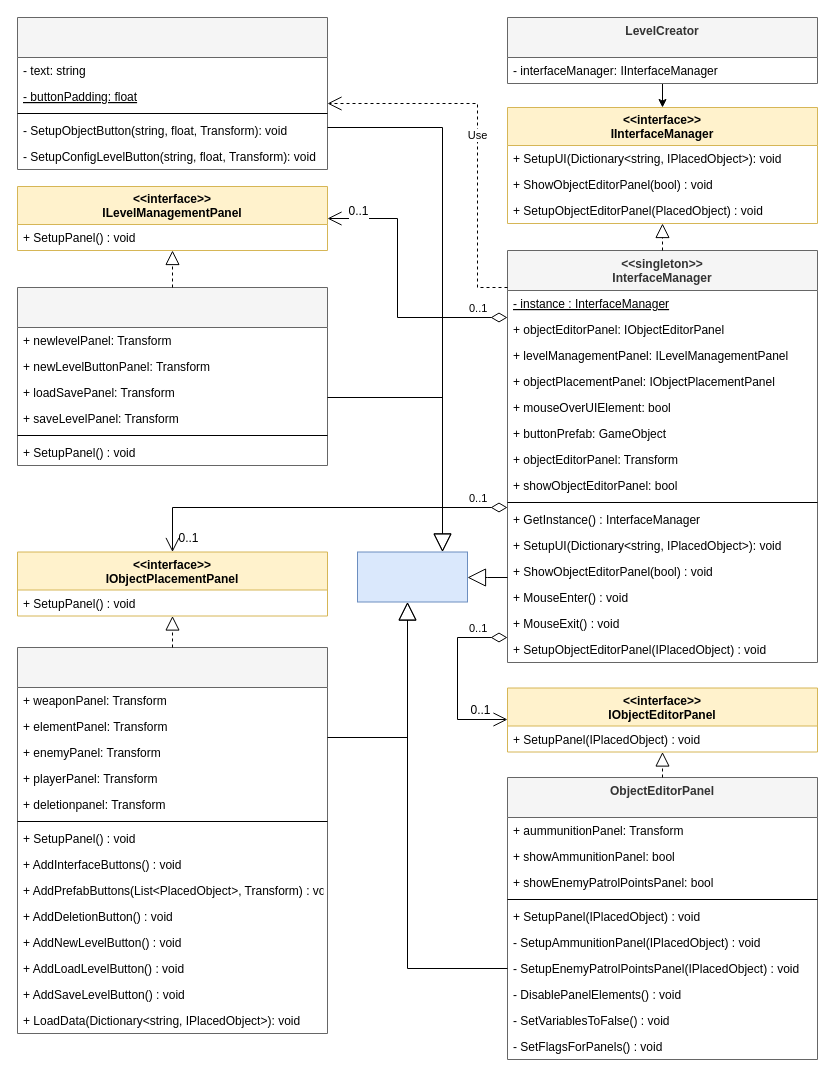
The diagram is 835 pixels wide and 1080 high, and some of its shapes have lost their labels. Each missing label, with the box of its shape:
LevelEditorButton: (16, 16, 328, 170)
LevelManagementPanel: (16, 286, 328, 466)
MonoBehaviour: (356, 551, 468, 602)
ObjectPlacementPanel: (16, 646, 328, 1034)
